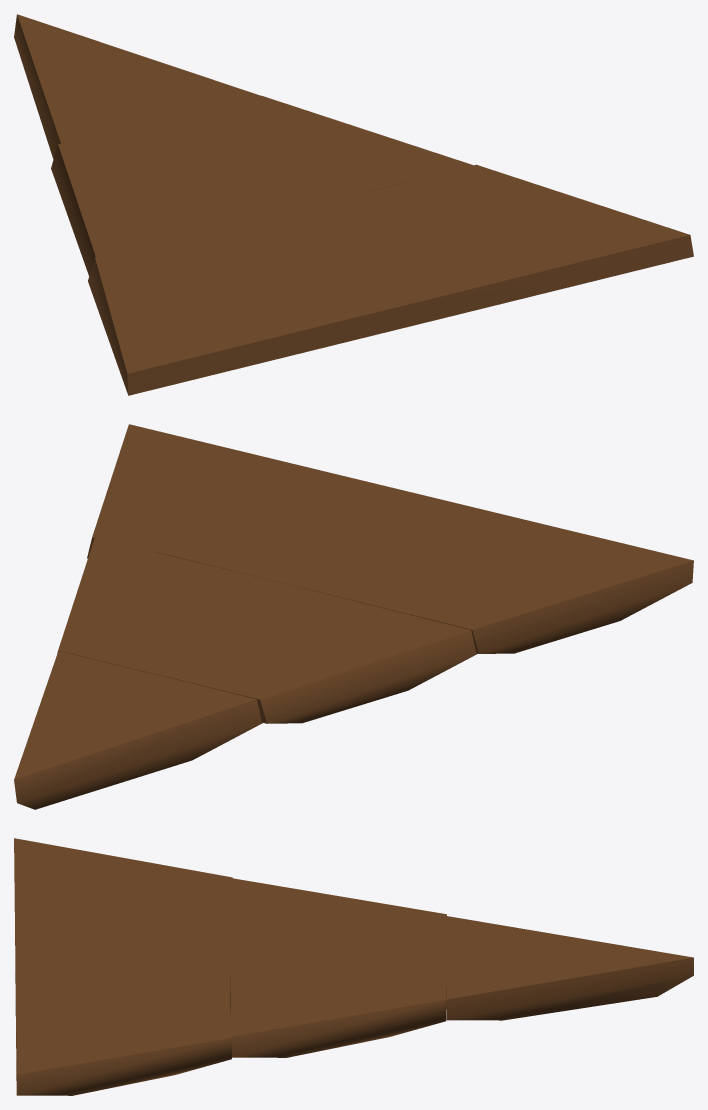
File: sl45_birchSplitLogTriFloorSection2.glb
3 views of the same model, one above another, from view 1: azimuth 30°, elevation 25°; view 2: azimuth 150°, elevation 25°; view 3: azimuth 270°, elevation 25° (orthographic). The views are drawn at different scales.
Visible parts, largest first — view 1: inside; view 2: inside; view 3: inside.
Boxes of the visible parts, box(x1,y1,x2,y2) form: inside: box(14, 14, 693, 395); inside: box(14, 424, 693, 809); inside: box(14, 838, 693, 1095).
Size of the model in its own units: 1.58 by 0.1233 by 1.91.
